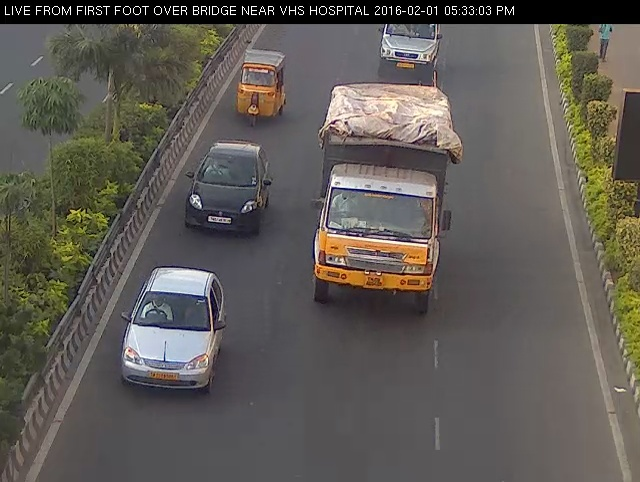Bus: (302, 83, 472, 321)
Car: (107, 249, 235, 414), (179, 125, 273, 252), (364, 10, 449, 85), (226, 40, 295, 130)
